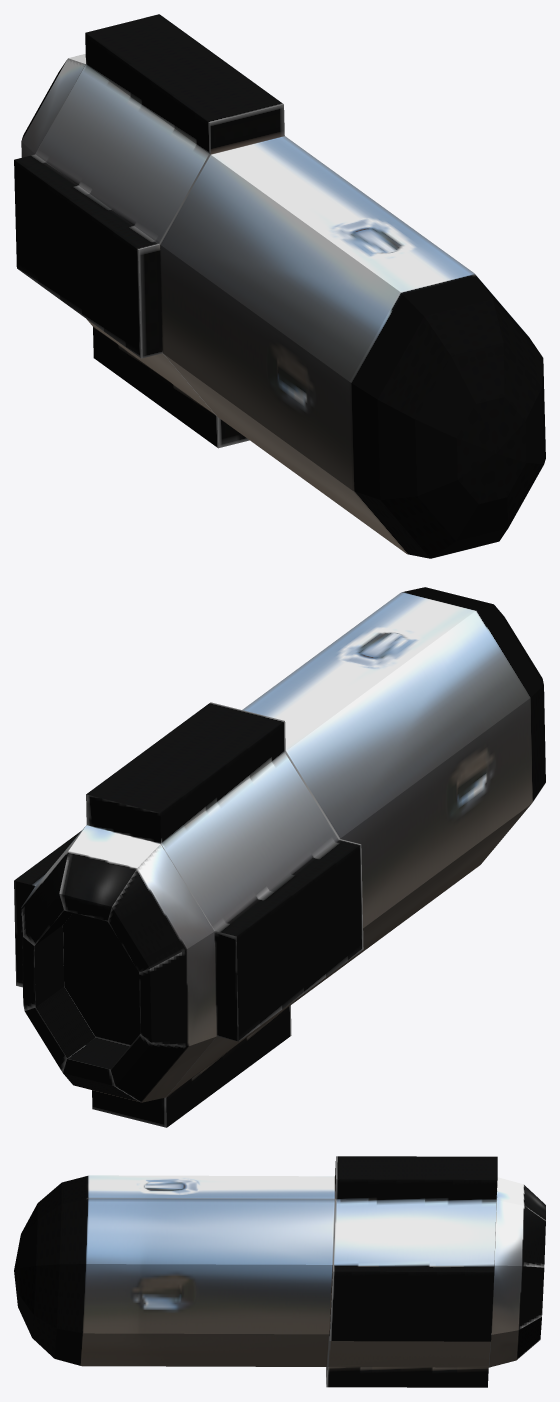
Rendered from drone6_füzesi.FBX.
3 views of the same model, one above another, from view 1: azimuth 30°, elevation 25°; view 2: azimuth 150°, elevation 25°; view 3: azimuth 270°, elevation 25° (orthographic). The views are drawn at different scales.
Visible parts, largest first — view 1: füze; view 2: füze; view 3: füze.
Part boxes in pixels (box(x1,y1,x2,y2)): füze: box(14, 14, 545, 558); füze: box(14, 587, 545, 1127); füze: box(14, 1156, 545, 1387).
Size of the model in its own units: 56.27 by 77.61 by 180.
1 material, 1 textured.
